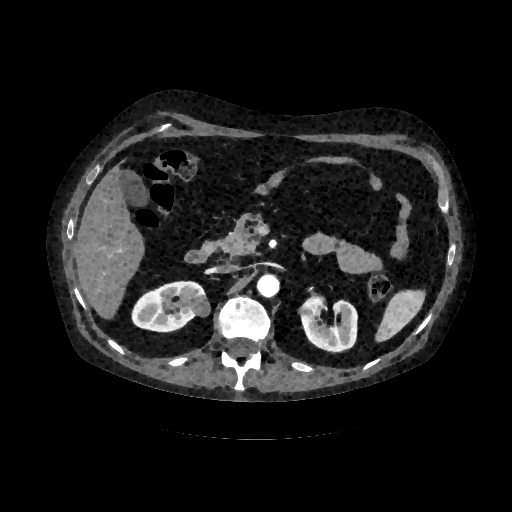Lesion: (185, 292, 214, 320)
